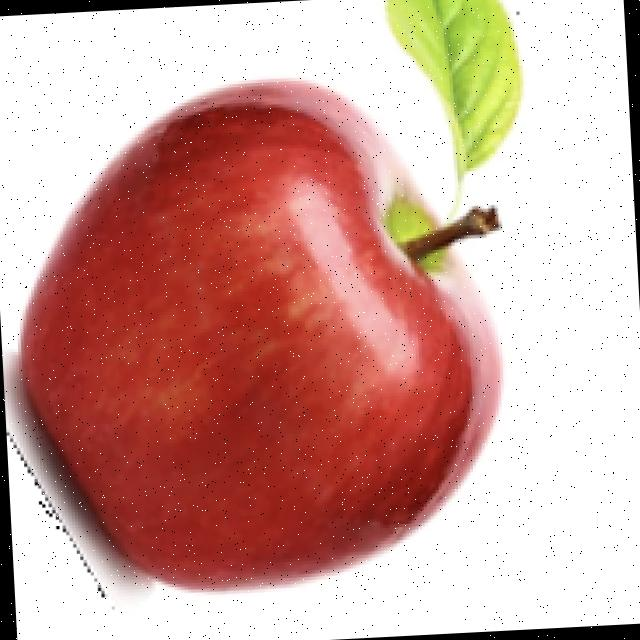apple: (4, 72, 516, 610)
